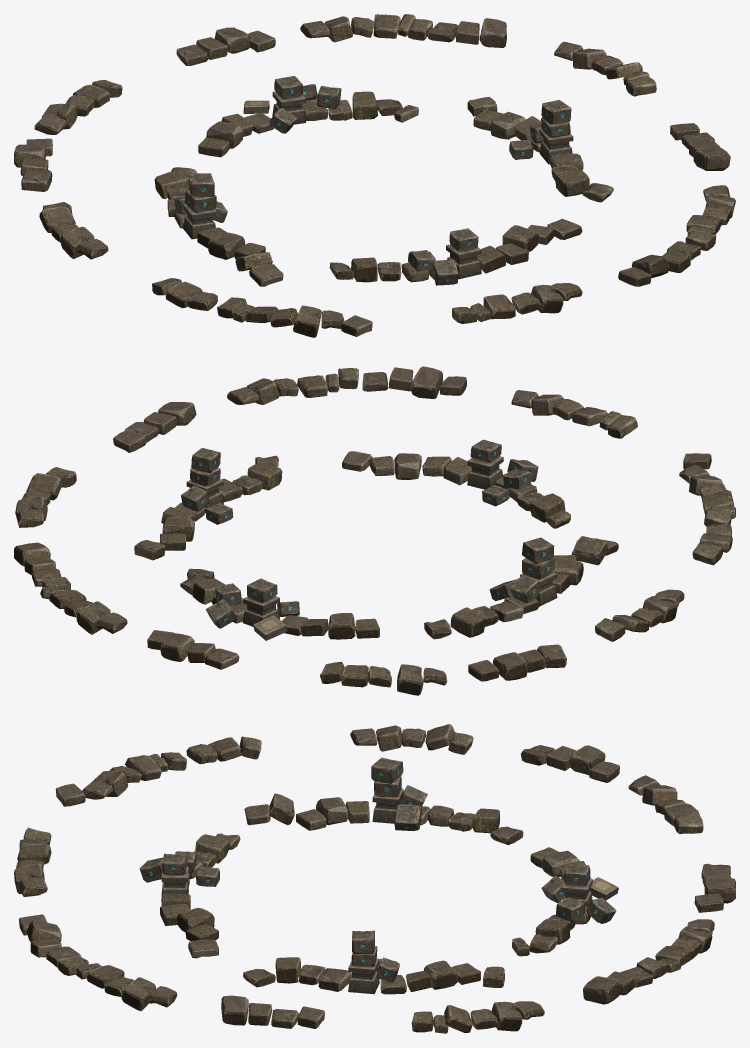
File: miniboss_10-1.fbx
3 renders of one model, top to bottom at view 1: azimuth 30°, elevation 25°; view 2: azimuth 150°, elevation 25°; view 3: azimuth 270°, elevation 25°, orthographic.
Visible parts, largest first — view 1: miniboss_10; view 2: miniboss_10; view 3: miniboss_10.
Boxes of the visible parts, x1,y1,x2,y2 form: miniboss_10: [14, 14, 735, 337]; miniboss_10: [14, 366, 735, 695]; miniboss_10: [14, 724, 735, 1033].
Size of the model in its own units: 289 by 25.87 by 294.
